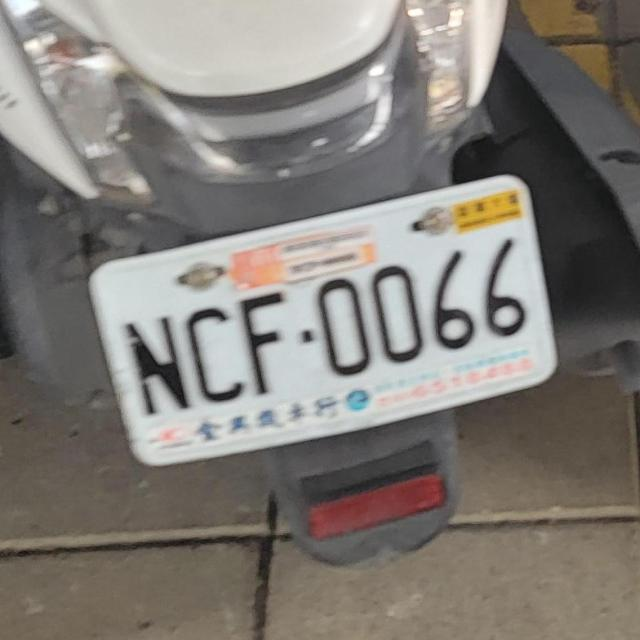W: (83, 176, 561, 472)
